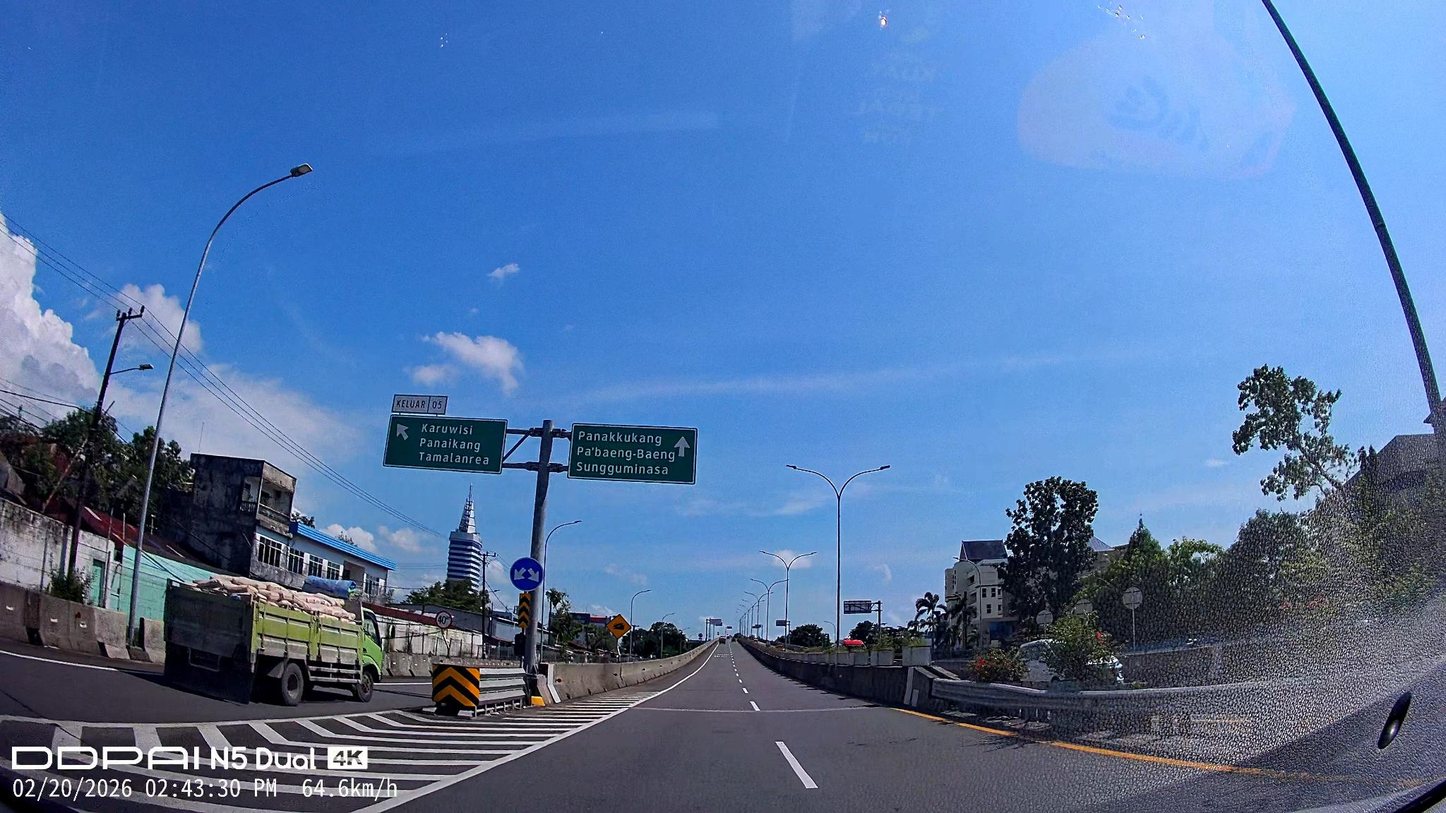rambu_teks: (567, 422, 699, 486), (382, 414, 509, 474)
